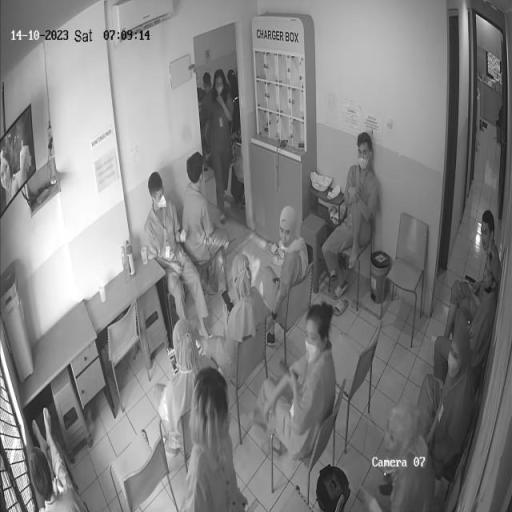person: (249, 303, 337, 458), (145, 173, 212, 355), (430, 210, 501, 346), (323, 134, 379, 299), (435, 252, 503, 387), (187, 367, 249, 512), (417, 327, 474, 480), (361, 402, 436, 512), (155, 319, 212, 458), (208, 255, 269, 383), (183, 153, 231, 295), (260, 207, 309, 345), (30, 408, 87, 512), (209, 71, 235, 225), (200, 73, 217, 171), (232, 146, 246, 209), (228, 71, 240, 135)
